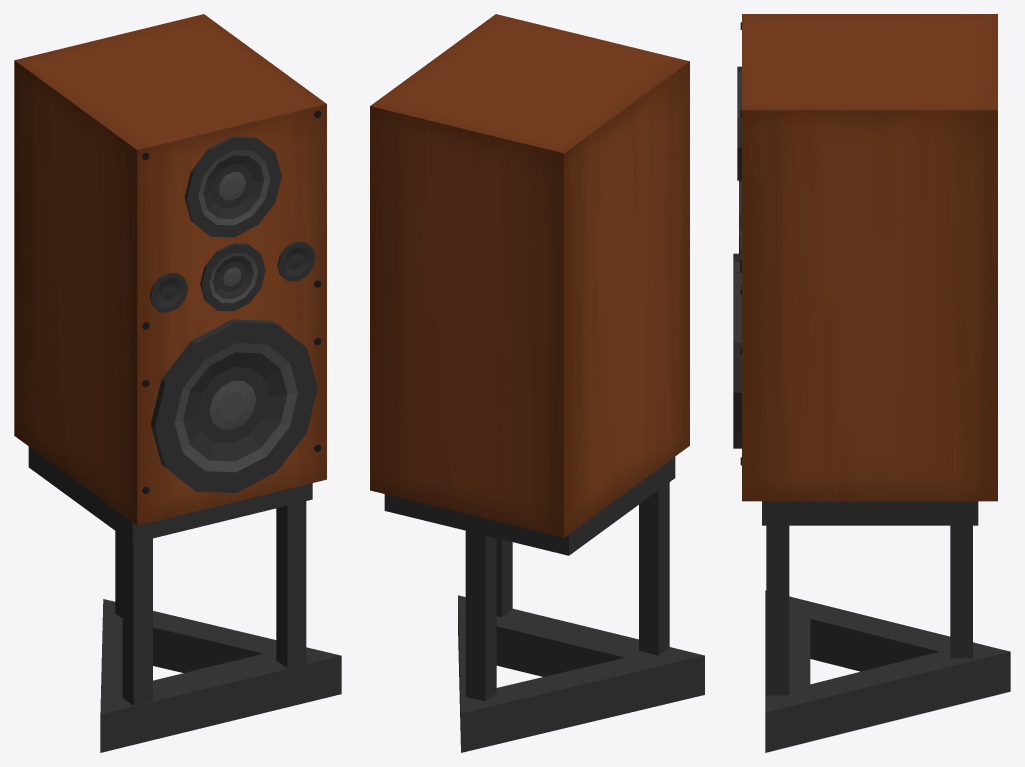
Rendered from speaker_0517.fbx.
3 views of the same model, side by side, from view 1: azimuth 30°, elevation 25°; view 2: azimuth 150°, elevation 25°; view 3: azimuth 270°, elevation 25° (orthographic). The views are drawn at different scales.
Visible parts, largest first — view 1: Box002; view 2: Box002; view 3: Box002.
Part boxes in pixels (x1,y1,x2,y2): Box002: [14, 14, 341, 752]; Box002: [370, 14, 704, 752]; Box002: [733, 14, 1010, 752].
Bounding box in the file's own units: 91.94 × 220 × 87.86.
1 material, 1 textured.
